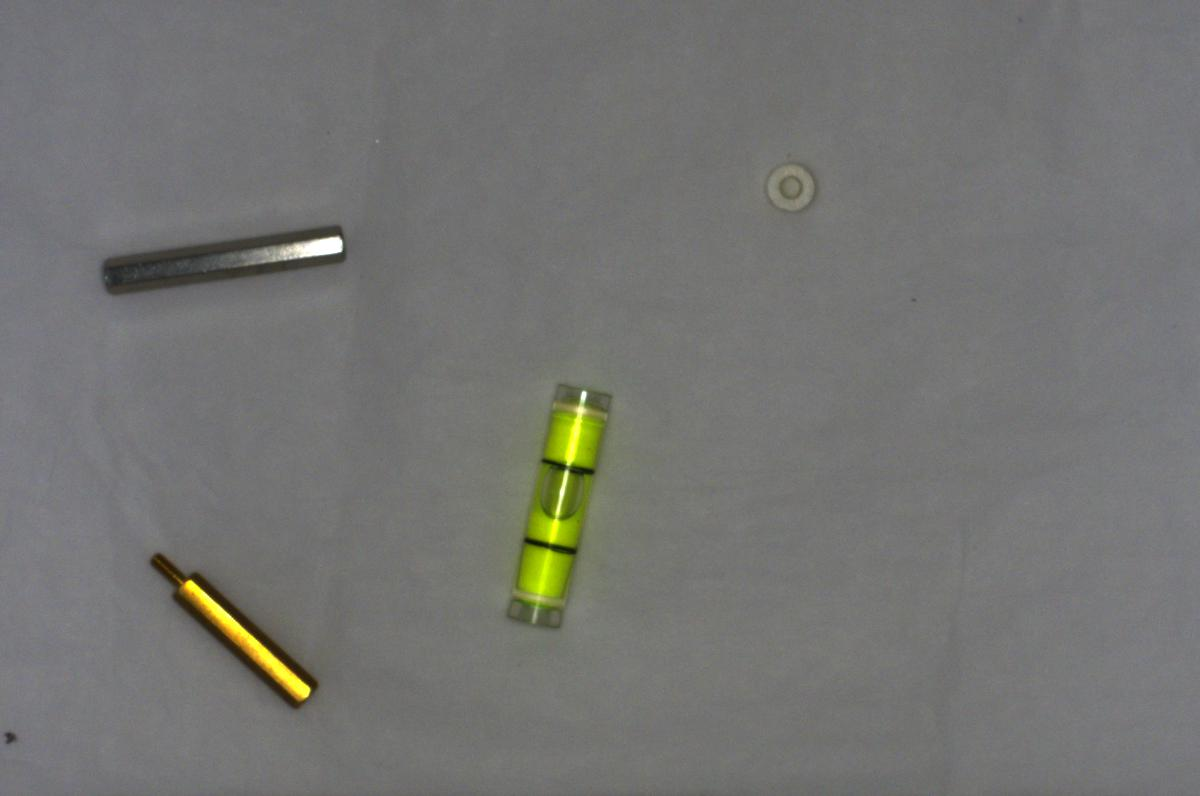Hexagon pillar: (130, 540, 334, 719)
Hexagonal steel column: (88, 215, 355, 310)
Horizontal bubble: (498, 374, 618, 636)
Plastic cushion pillar: (744, 153, 818, 222)
